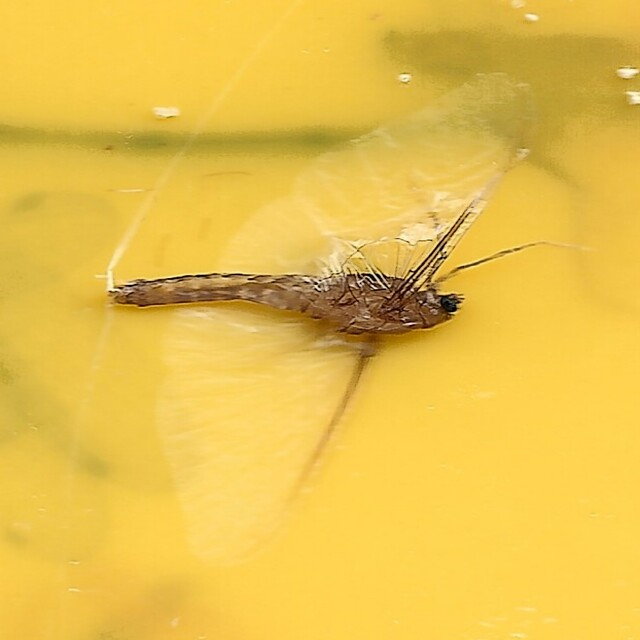Ephemeroptera: (103, 74, 537, 566)
